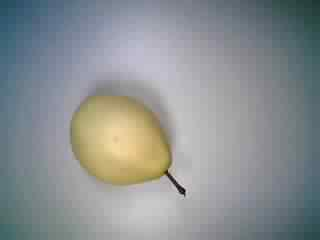pear: (54, 83, 200, 208)
